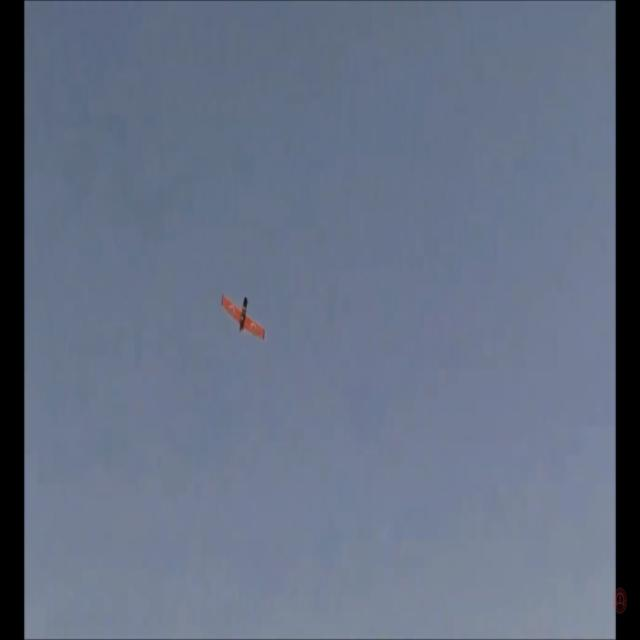iha: (220, 293, 265, 341)
